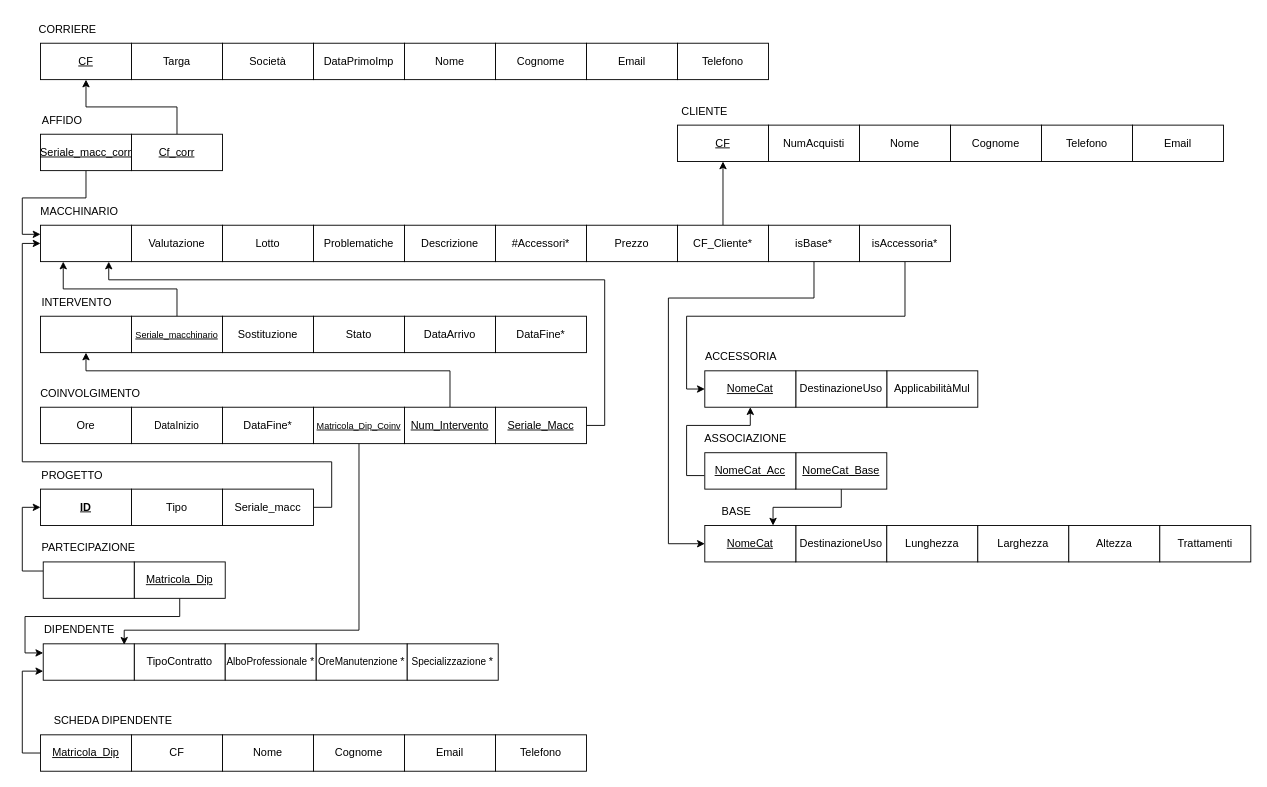
Some shapes in this 1267 by 787 pixel diagram are drawn without their labels. The centre of each missing label's shape, as x and y in pixels:
"ID_Progetto" belongs at (88,579).
"Matricola" belongs at (88,661).
"Progressivo" belongs at (85,334).
"Seriale" belongs at (85,243).
